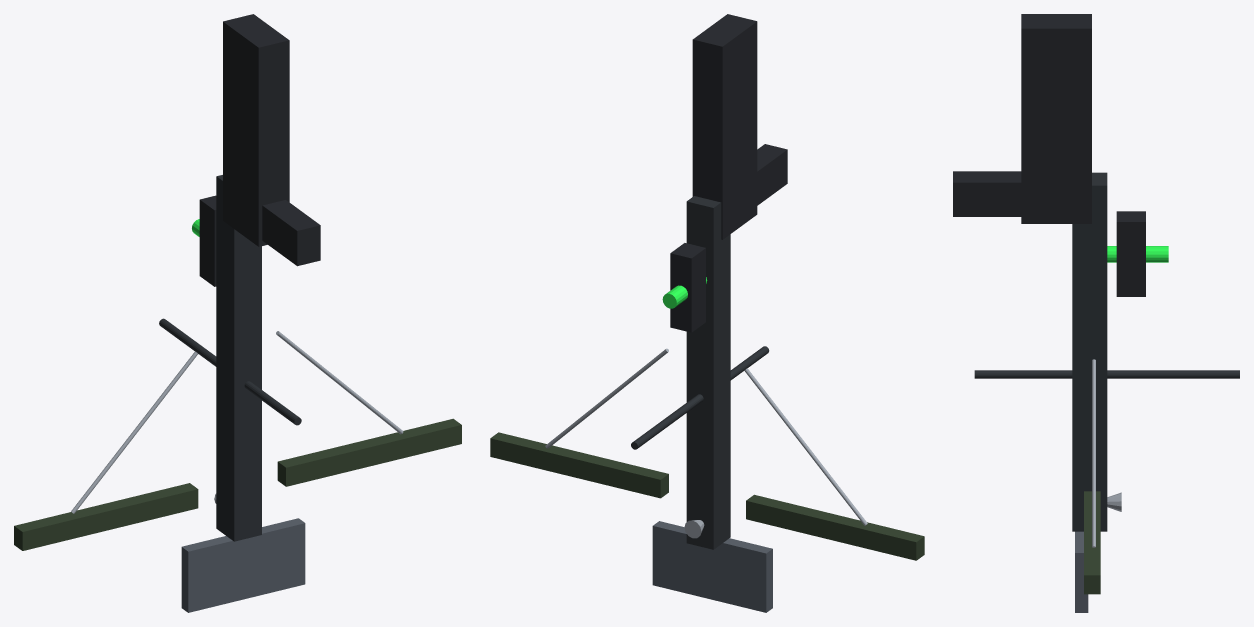
The model's file is crossbow.obj.
3 views of the same model, side by side, from view 1: azimuth 30°, elevation 25°; view 2: azimuth 150°, elevation 25°; view 3: azimuth 270°, elevation 25° (orthographic). The views are drawn at different scales.
Parts seen in each view (by area): view 1: Weapon_Crossbow; view 2: Weapon_Crossbow; view 3: Weapon_Crossbow.
Part boxes in pixels (<box>): Weapon_Crossbow: <box>14,14,461,612</box>; Weapon_Crossbow: <box>490,14,924,612</box>; Weapon_Crossbow: <box>953,14,1239,612</box>.
Size of the model in its own units: 0.6 by 0.75 by 0.346.
